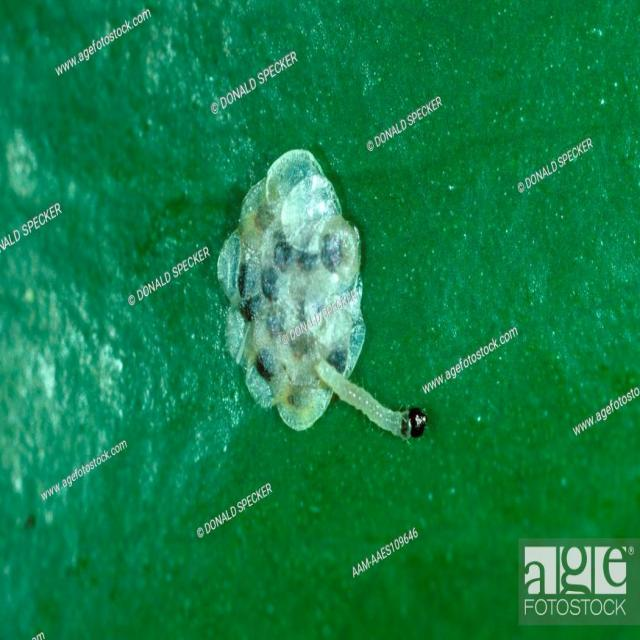cornborer-Larva-: (313, 354, 435, 444)
